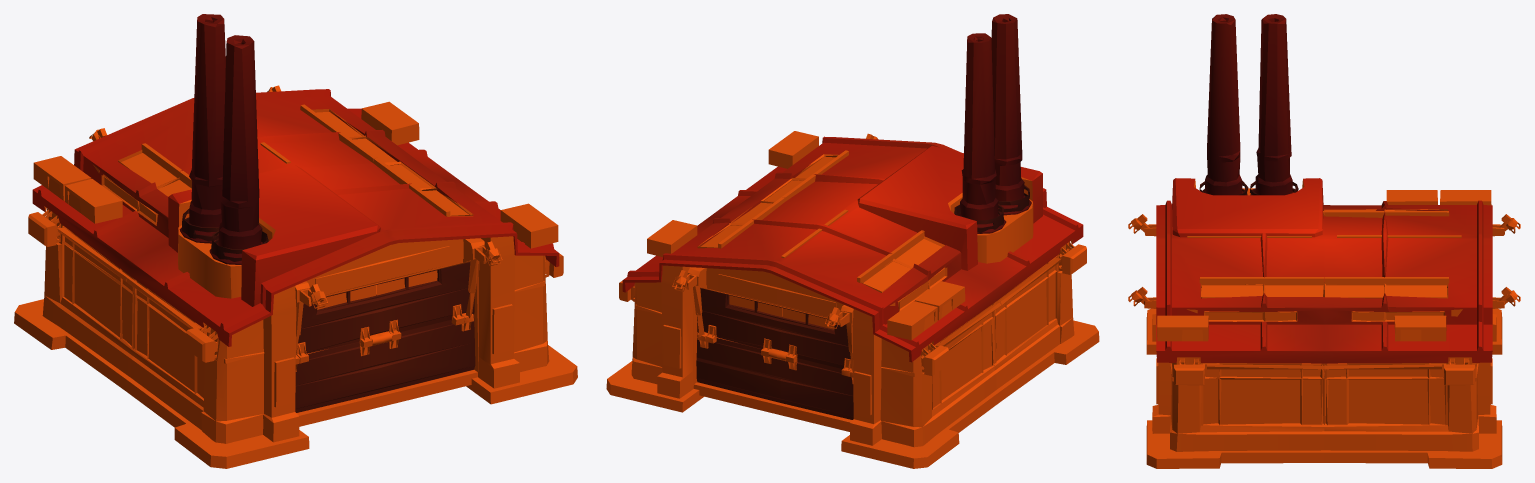
Rendered from WbFactoryLowpoly.fbx.
3 renders of one model, left to right at view 1: azimuth 30°, elevation 25°; view 2: azimuth 150°, elevation 25°; view 3: azimuth 270°, elevation 25°, orthographic. The views are drawn at different scales.
Visible parts, largest first — view 1: Cube.042; view 2: Cube.042; view 3: Cube.042.
Boxes of the visible parts, x1,y1,x2,y2 form: Cube.042: (14, 14, 577, 468); Cube.042: (606, 14, 1099, 468); Cube.042: (1128, 14, 1520, 468).
Size of the model in its own units: 1.17 by 1.16 by 1.26.
